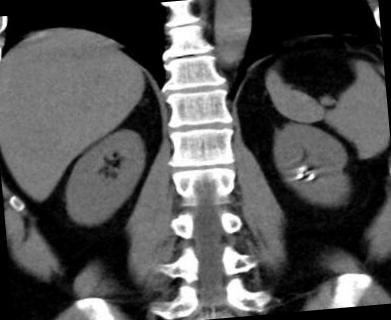Tas_Var: (306, 172, 318, 183), (295, 172, 305, 180), (298, 165, 306, 172)
